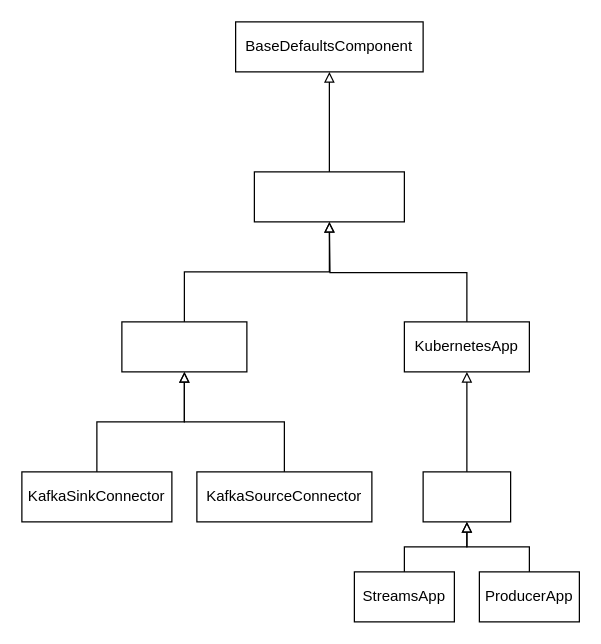
Some shapes in this 601 by 644 pixel diagram are drawn without their labels. Each missing label, with the centre of its shape:
"KafkaApp" goes at point (466, 496).
"KafkaConnector" goes at point (184, 346).
"PipelineComponent" goes at point (328, 196).
